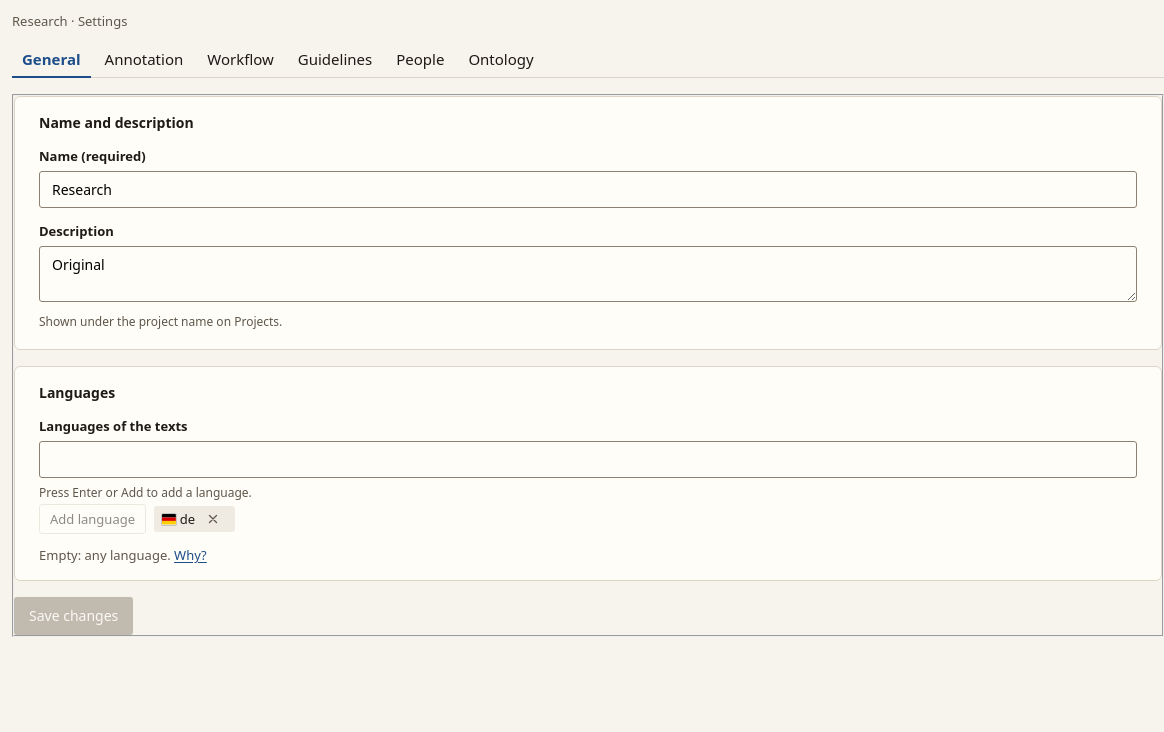
settings section addresses › every form saves with Save changes, offers Discard changes only when dirty and names unsaved changes (M-8d)
The image size is (1164, 732).
Check: the button "Discard changes" is not shown
Replace the text in the field labelled "Name (required)" with "Edited". click: (588, 190)
box: [39,171,1137,208]
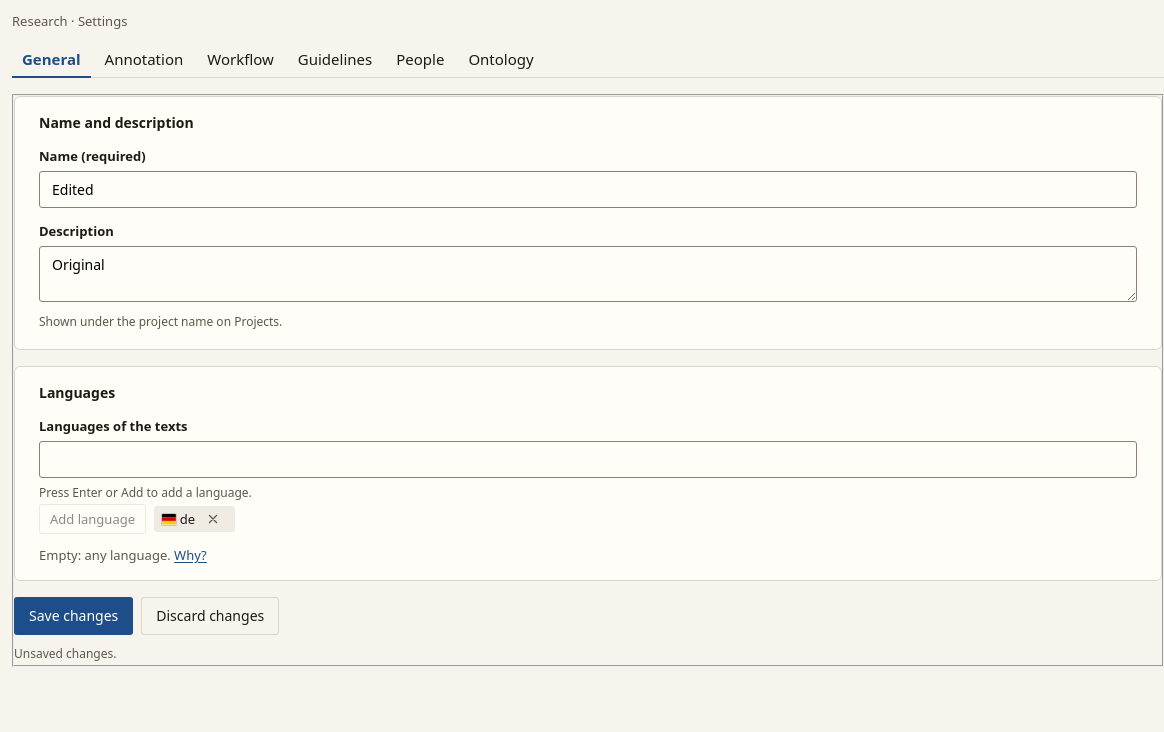
Check: the message reads "Unsaved changes.", box [14,645,116,662]
Click the button "Discard changes". click: (210, 616)
box: [141,597,279,635]
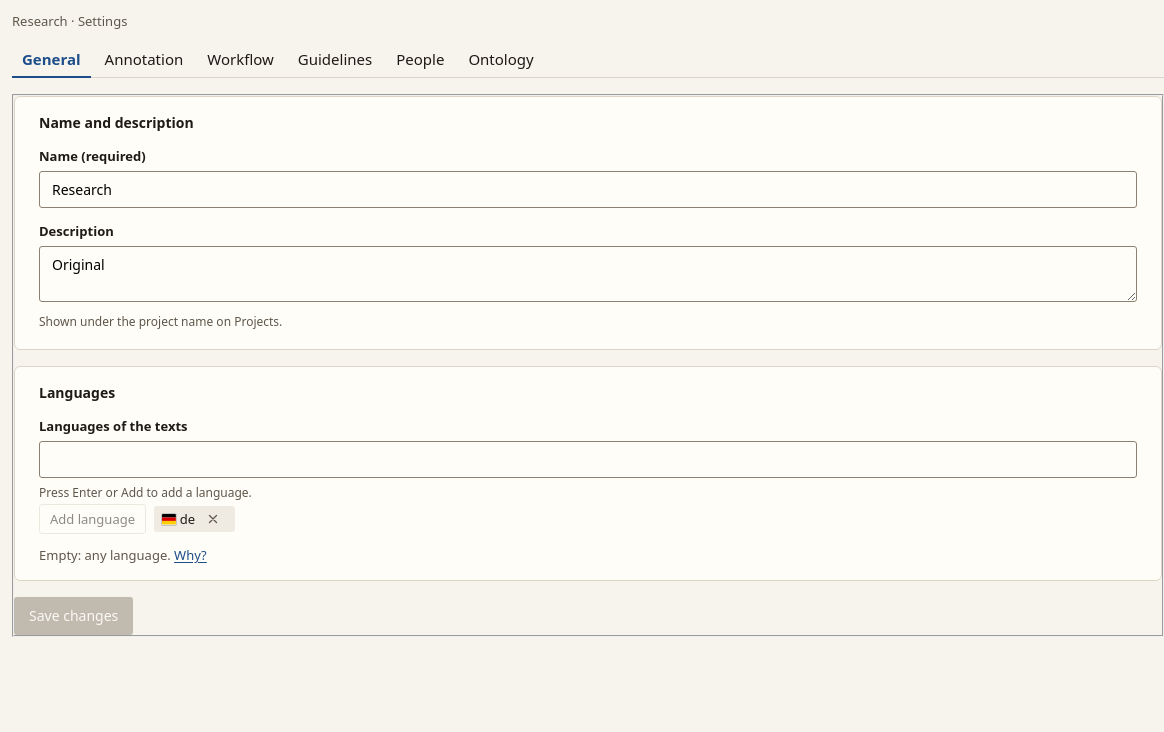
Check: the field labelled "Name (required)" holds "Research", box [39,171,1137,208]
Check: the button "Discard changes" is gone
